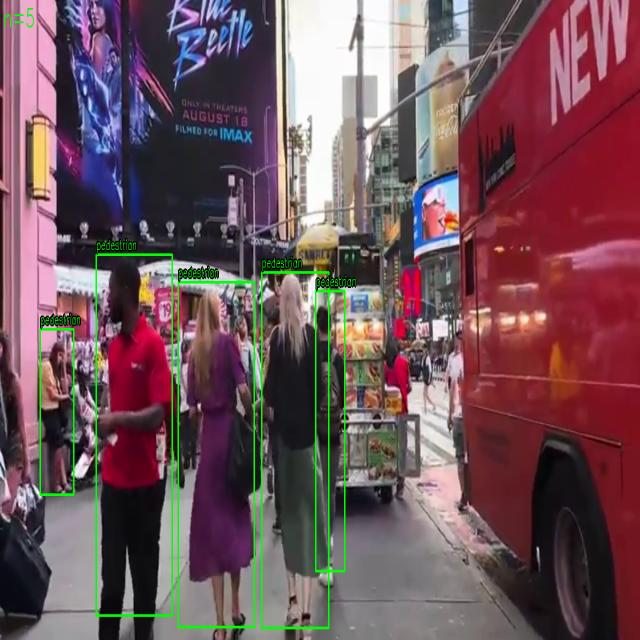with scooter: (96, 254, 172, 616), (178, 282, 254, 628), (261, 272, 329, 628), (315, 290, 345, 572), (40, 329, 74, 495)
